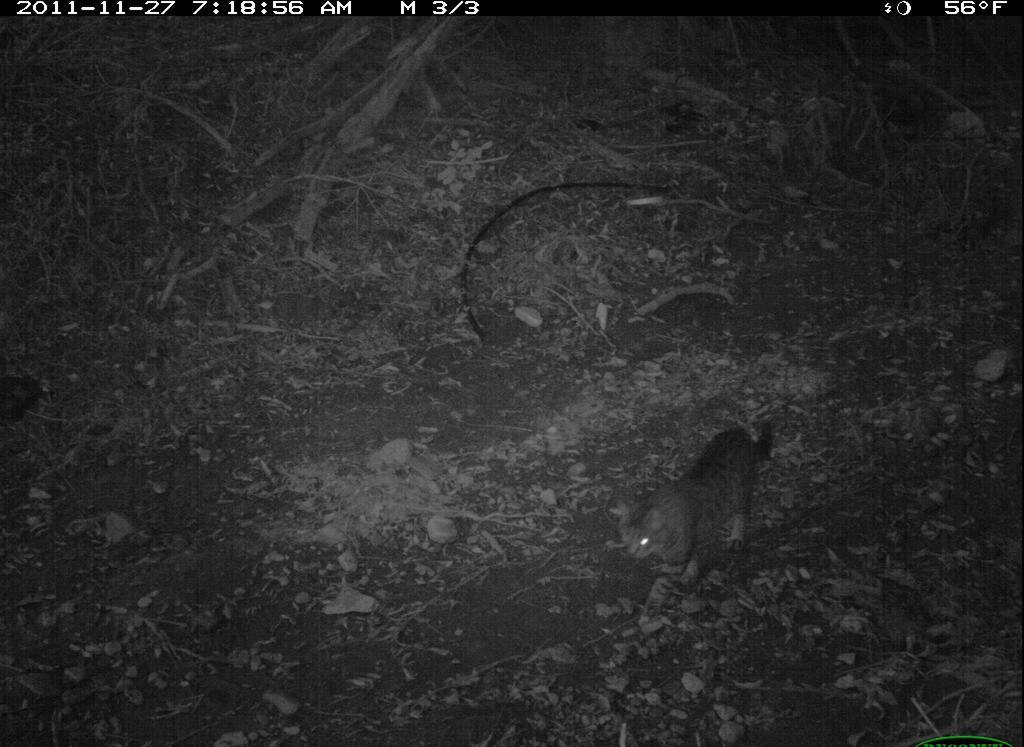cat: (614, 411, 788, 607)
